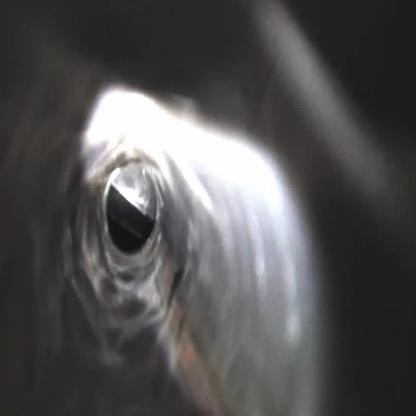Crack: (70, 92, 205, 354)
